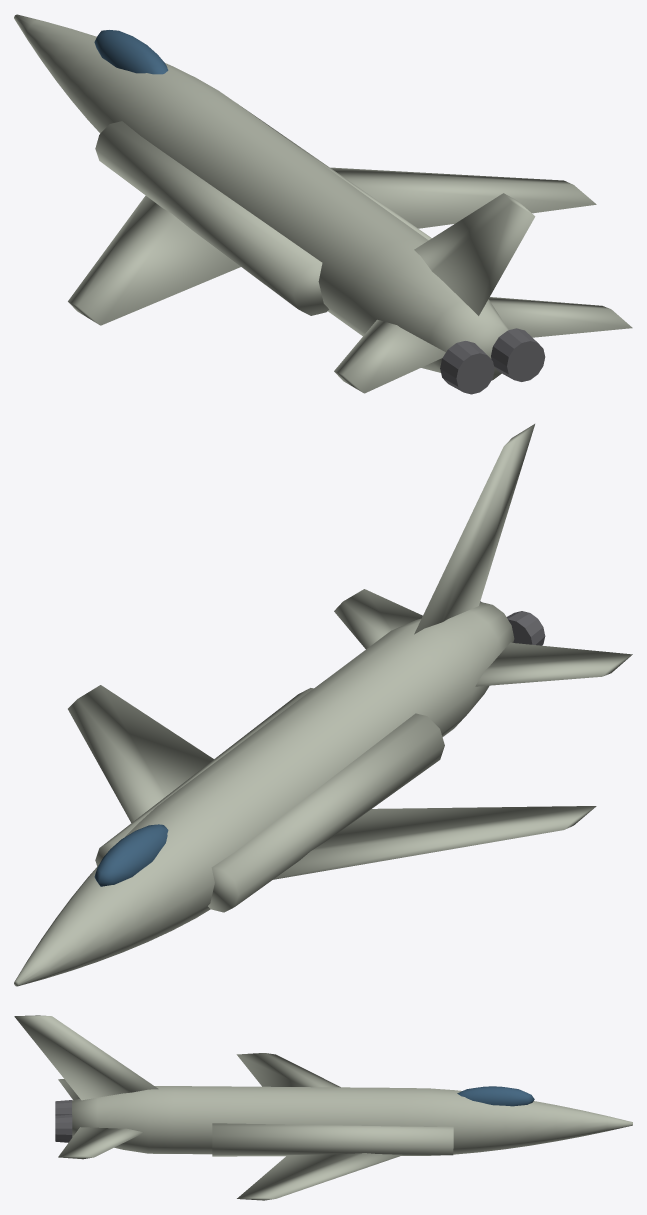
3 renders of one model, top to bottom at view 1: azimuth 30°, elevation 25°; view 2: azimuth 150°, elevation 25°; view 3: azimuth 270°, elevation 25°, orthographic. The views are drawn at different scales.
Visible parts, largest first — view 1: Body, Detail, Canopy; view 2: Body, Canopy, Detail; view 3: Body, Canopy, Detail.
Boxes of the visible parts, x1,y1,x2,y2 form: Body: (14, 14, 632, 393); Detail: (440, 328, 545, 394); Canopy: (94, 30, 168, 74); Body: (14, 424, 632, 986); Canopy: (94, 824, 168, 886); Detail: (480, 601, 545, 645); Body: (14, 1015, 632, 1200); Canopy: (457, 1086, 534, 1106); Detail: (55, 1100, 72, 1142).
Size of the model in its own units: 1170 by 516 by 2119.
